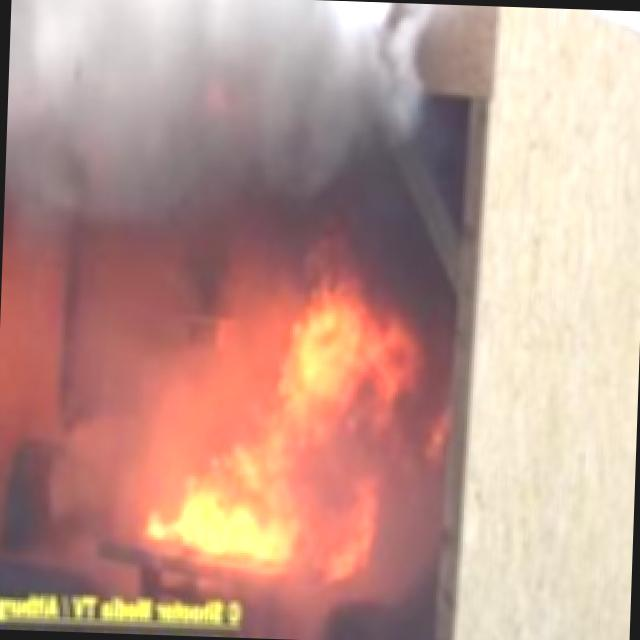fire: (117, 260, 430, 605)
